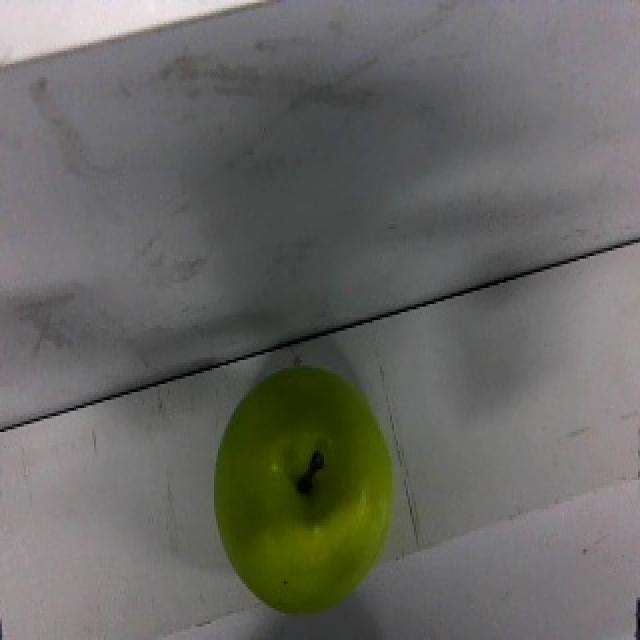apple: (210, 356, 396, 618)
